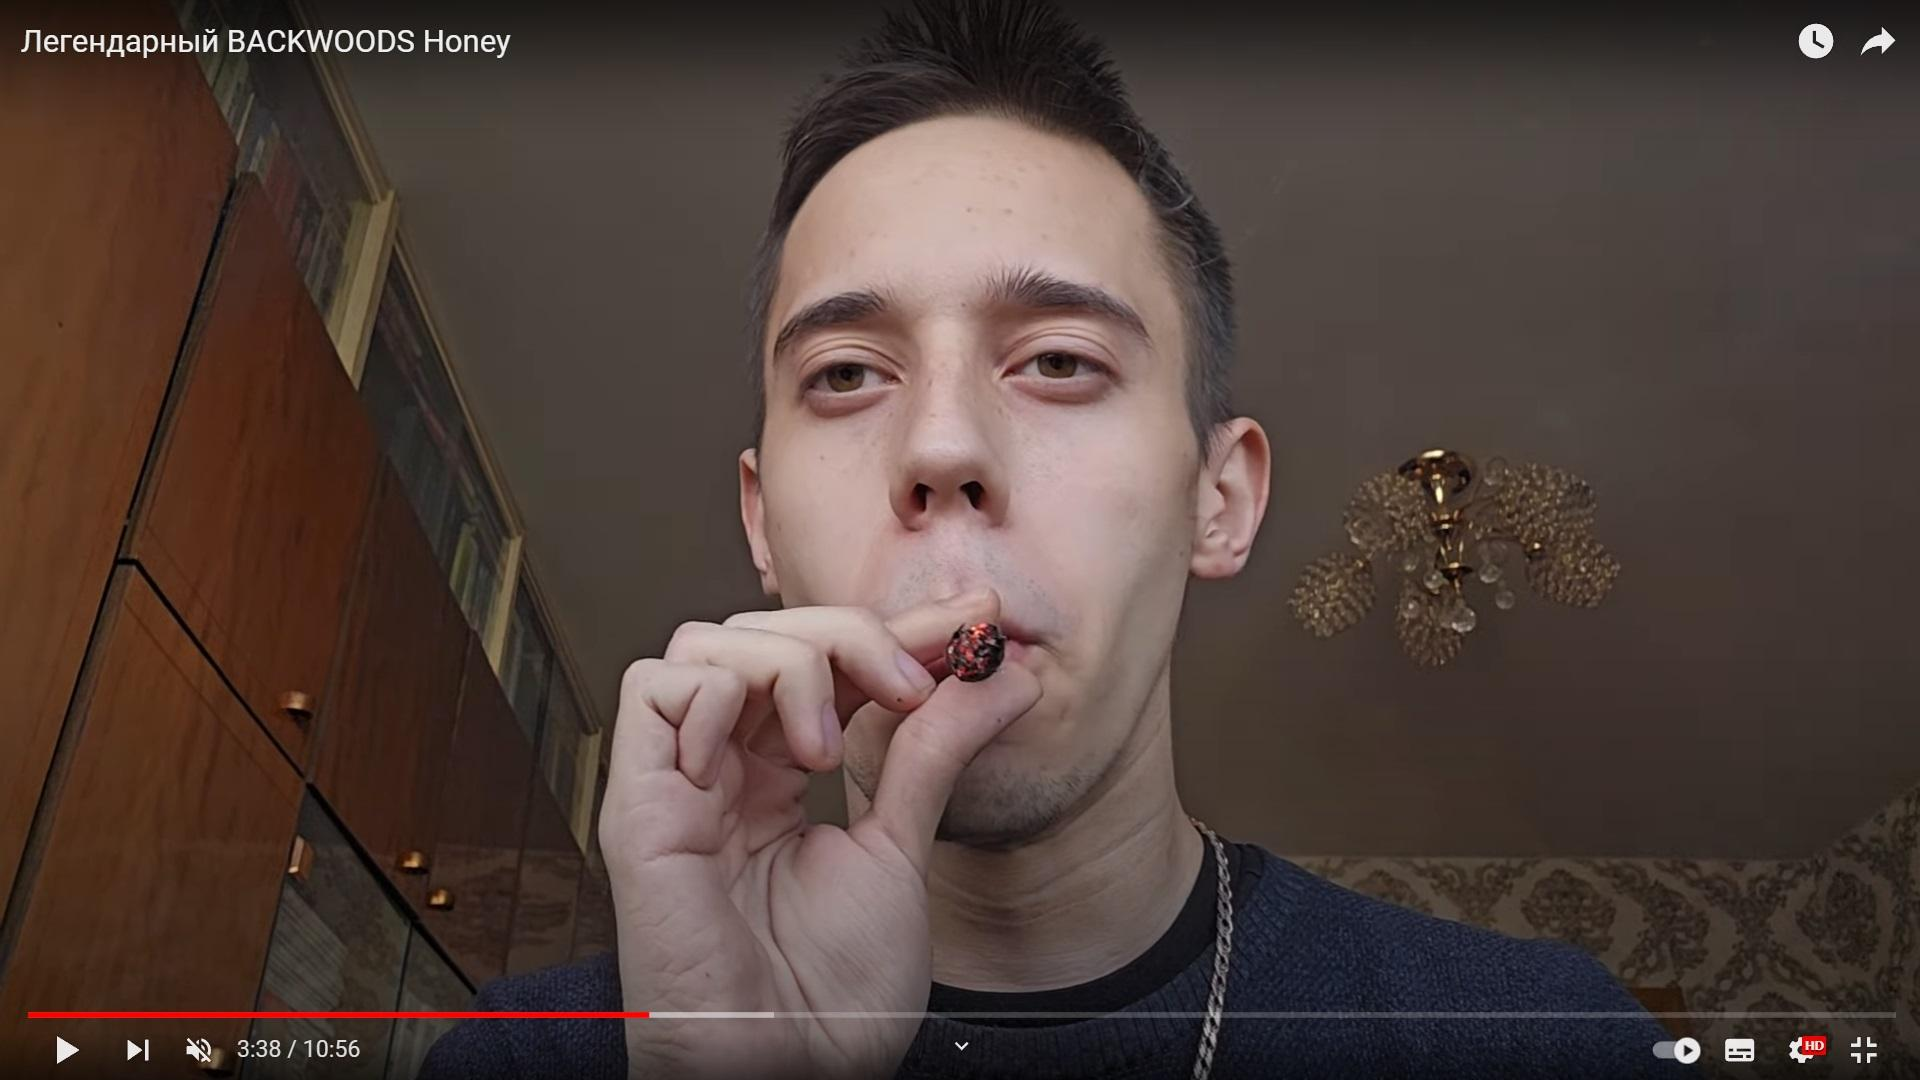cigarette: (945, 621, 1009, 683)
